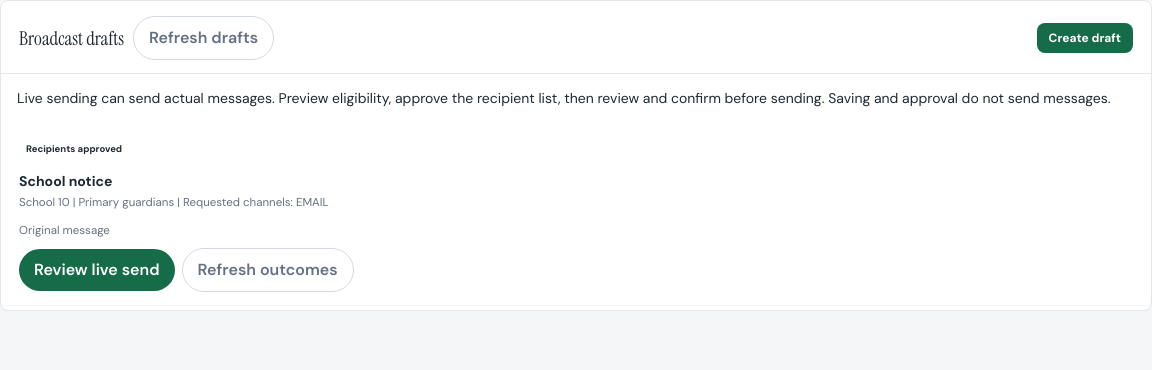
Test: Live broadcast confirmation and reconciliation › fetches the record school in a global view and fails closed for unsupported live channels
The image size is (1152, 370).
Click the button "Review live send" at (97, 270), box [19,249,175,291]
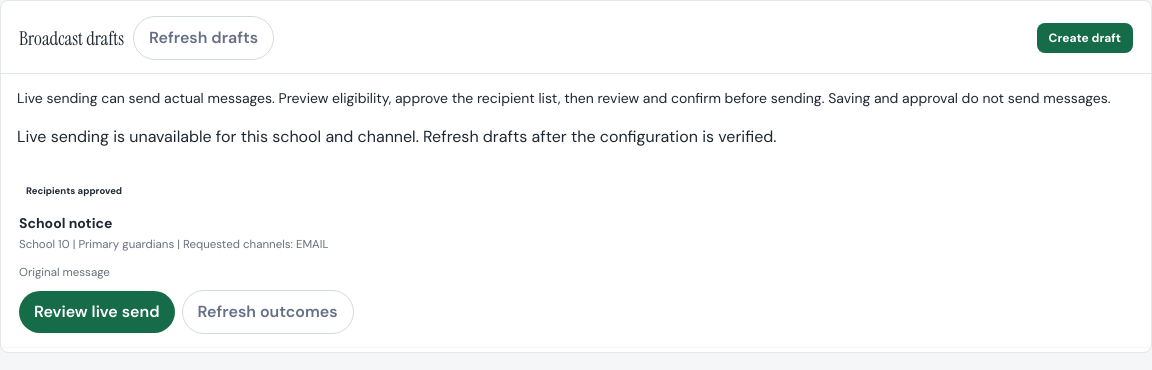
Result: the message shows "unavailable for this school and channel" at [17,126,776,147]
